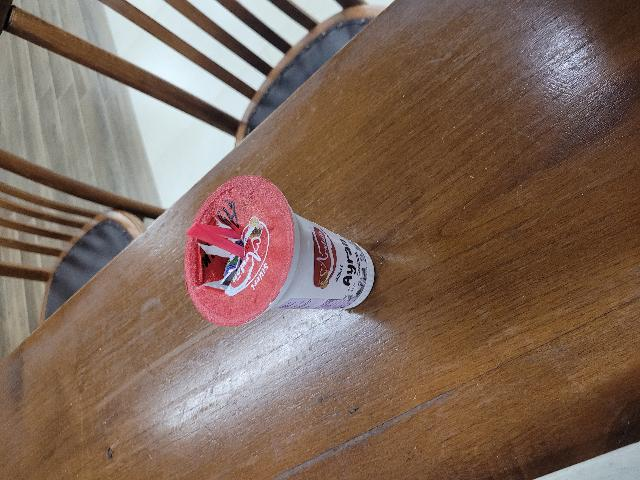Plastik: (186, 171, 383, 338)
